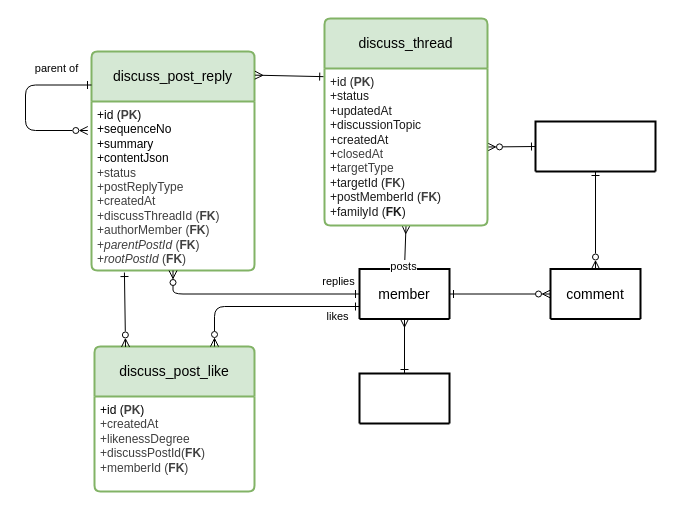
Some shapes in this 674 by 509 pixel diagram are drawn without their labels. Each missing label, with the centre of its shape:
"family" belongs at [404,398].
"movie-tv-music-book-poem-recipe" belongs at [595,146].
